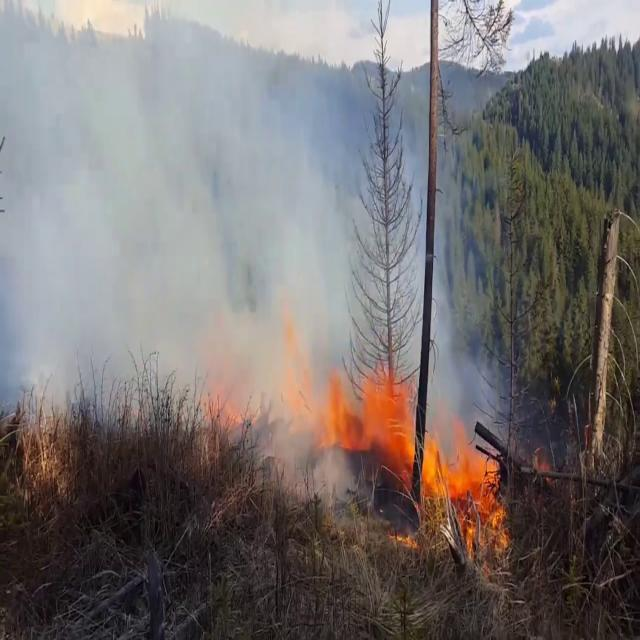Fire: (337, 356, 507, 549)
Smoke: (0, 0, 488, 480)
